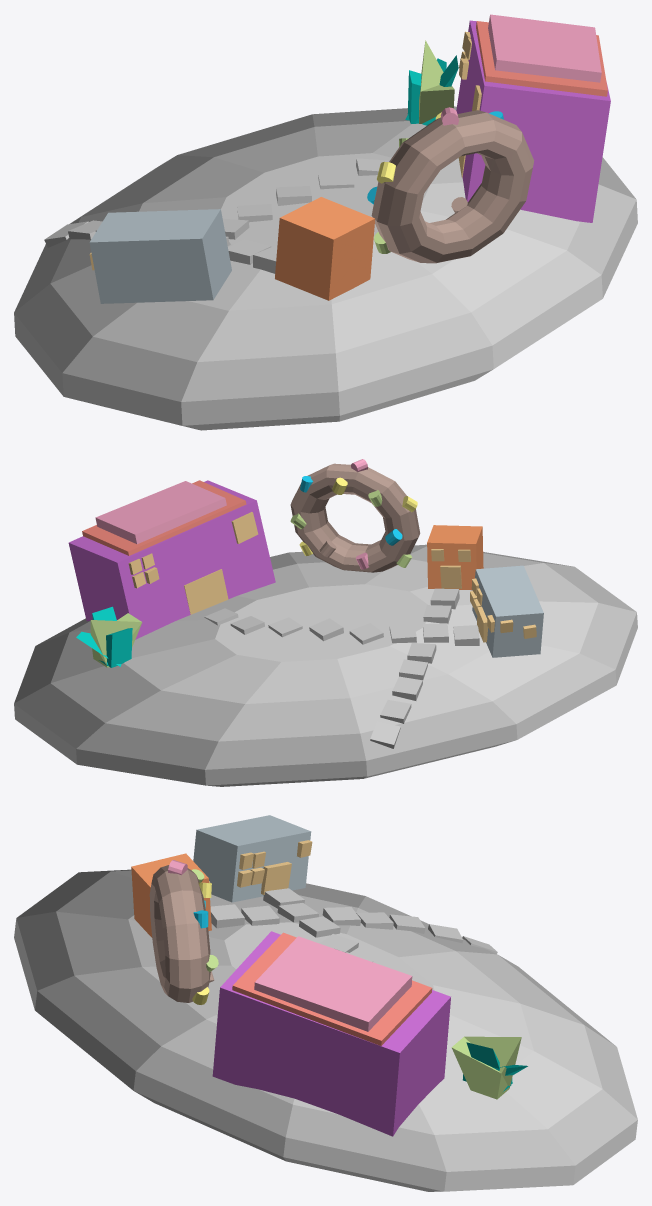
The model's file is purplehouseopt.dae.
3 views of the same model, one above another, from view 1: azimuth 30°, elevation 25°; view 2: azimuth 150°, elevation 25°; view 3: azimuth 270°, elevation 25° (orthographic). The views are drawn at different scales.
Parts seen in each view (by area): view 1: model; view 2: model; view 3: model.
Boxes of the visible parts, bbox=[...] form: model: bbox=[14, 14, 637, 430]; model: bbox=[14, 459, 637, 786]; model: bbox=[14, 815, 637, 1191].
Bounding box in the file's own units: 0.8972 × 0.8406 × 0.3683.
